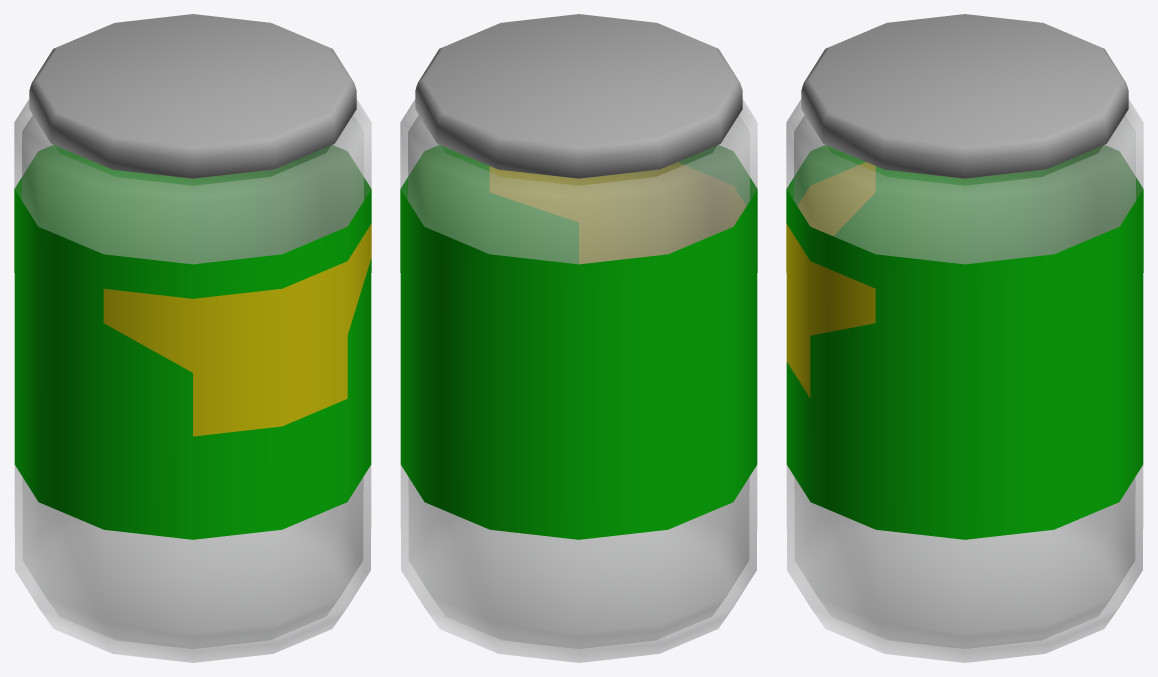
File: SM_Glass_Jar.fbx
3 renders of one model, left to right at view 1: azimuth 30°, elevation 25°; view 2: azimuth 150°, elevation 25°; view 3: azimuth 270°, elevation 25°, orthographic.
Visible parts, largest first — view 1: Cylinder; view 2: Cylinder; view 3: Cylinder.
Part boxes in pixels (x1=…): Cylinder: x1=14, y1=14, x2=371, y2=662; Cylinder: x1=400, y1=14, x2=757, y2=662; Cylinder: x1=786, y1=14, x2=1143, y2=662.
Size of the model in its own units: 0.085 by 0.1351 by 0.085.
